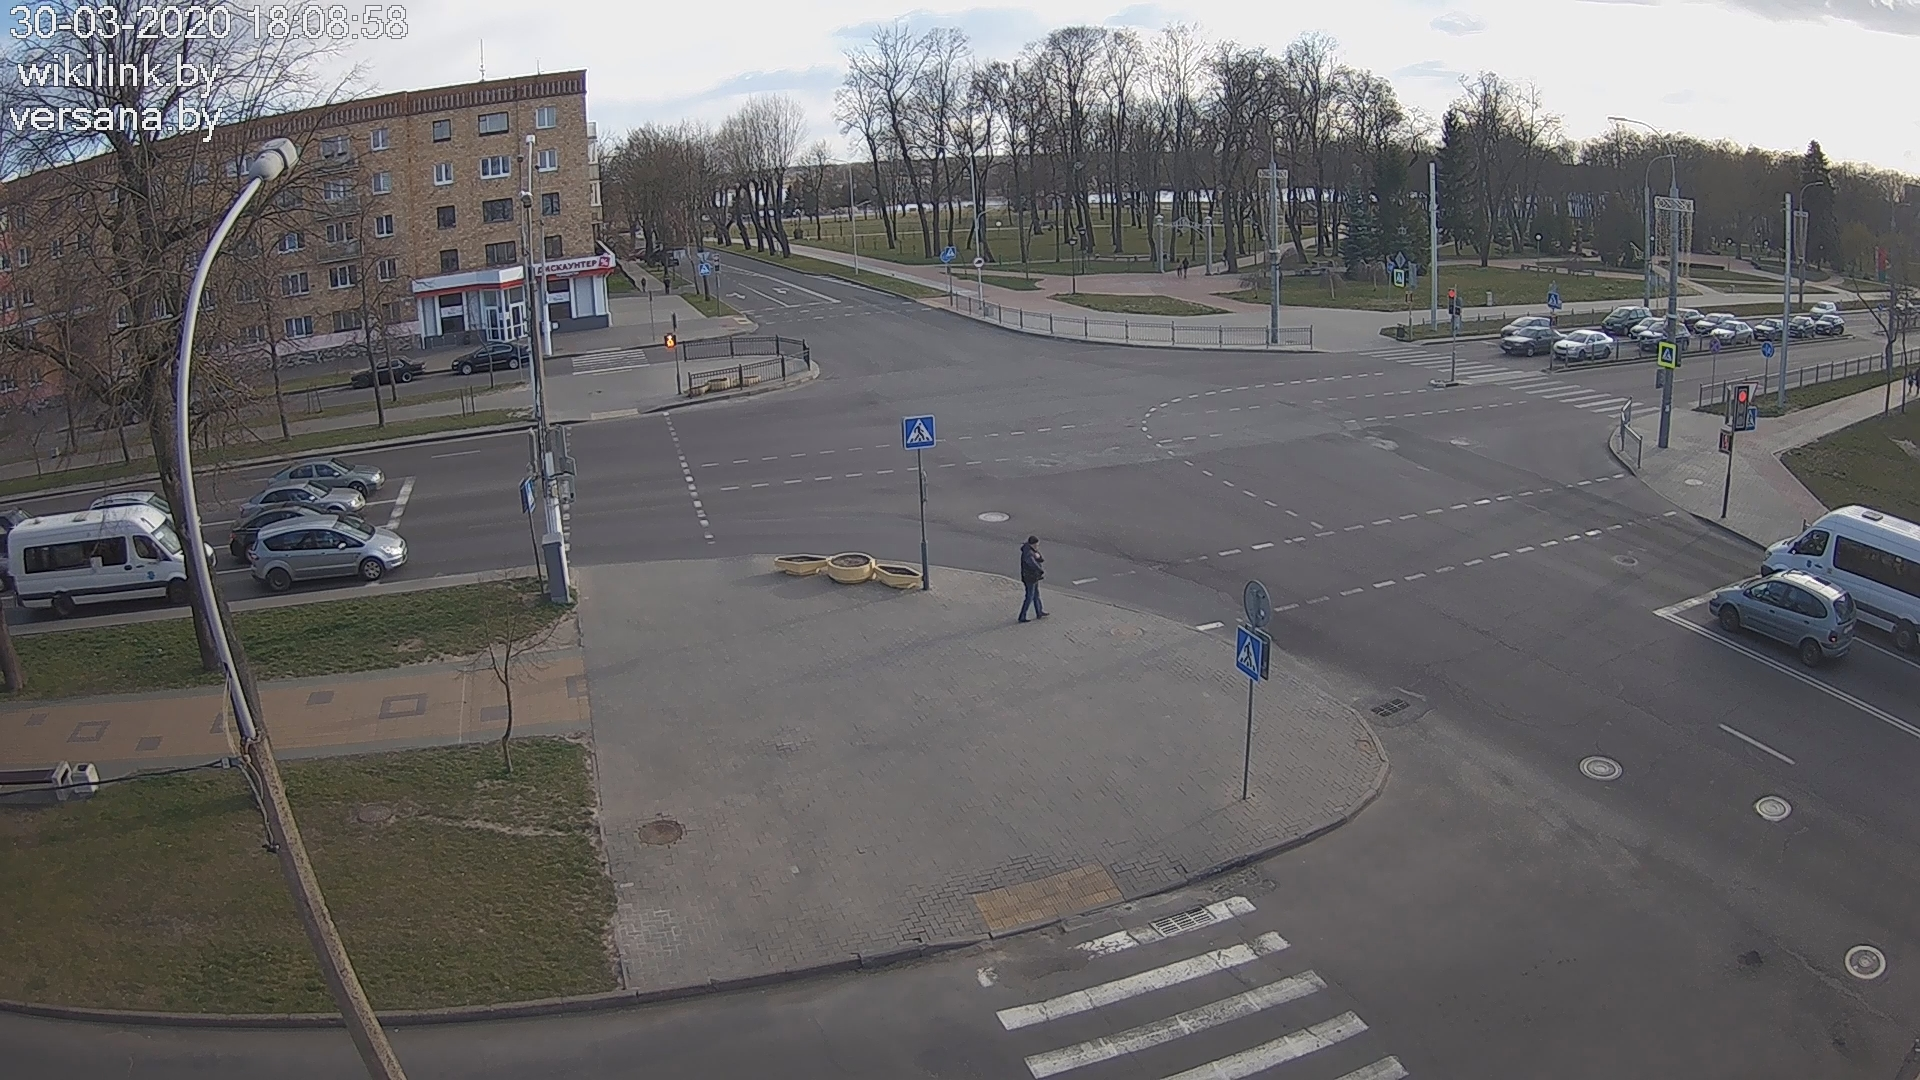car: (8, 505, 219, 618), (1762, 504, 1920, 651), (1709, 568, 1855, 669), (251, 514, 407, 592), (229, 501, 368, 562), (240, 477, 369, 518), (266, 456, 385, 496), (451, 342, 530, 376), (349, 355, 426, 386), (1501, 324, 1567, 357), (1553, 328, 1614, 361), (1639, 320, 1691, 352), (1602, 305, 1652, 335), (1501, 316, 1557, 336), (1712, 320, 1753, 345)
